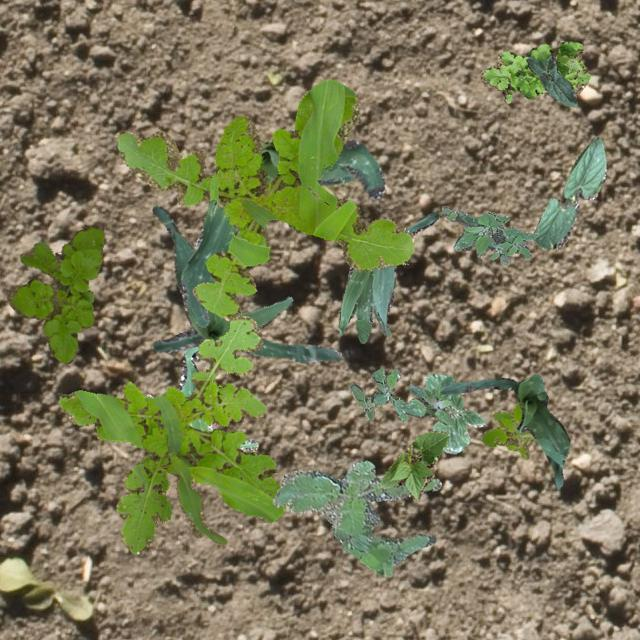crop: (180, 140, 383, 326), (152, 205, 342, 362), (439, 373, 568, 488), (337, 212, 438, 342), (178, 344, 256, 450), (532, 136, 604, 248), (138, 452, 225, 544), (378, 430, 448, 500), (424, 372, 484, 452), (524, 54, 576, 106)
weed: (115, 78, 412, 320), (58, 314, 284, 552), (272, 460, 440, 576), (6, 224, 102, 362), (480, 40, 590, 101), (441, 204, 536, 264), (348, 366, 406, 421), (482, 402, 534, 458), (394, 374, 452, 424)
